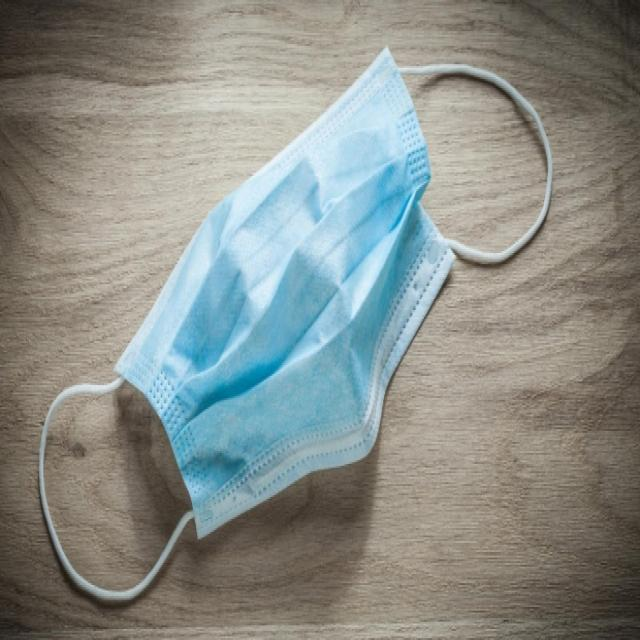face mask: (42, 46, 554, 600)
